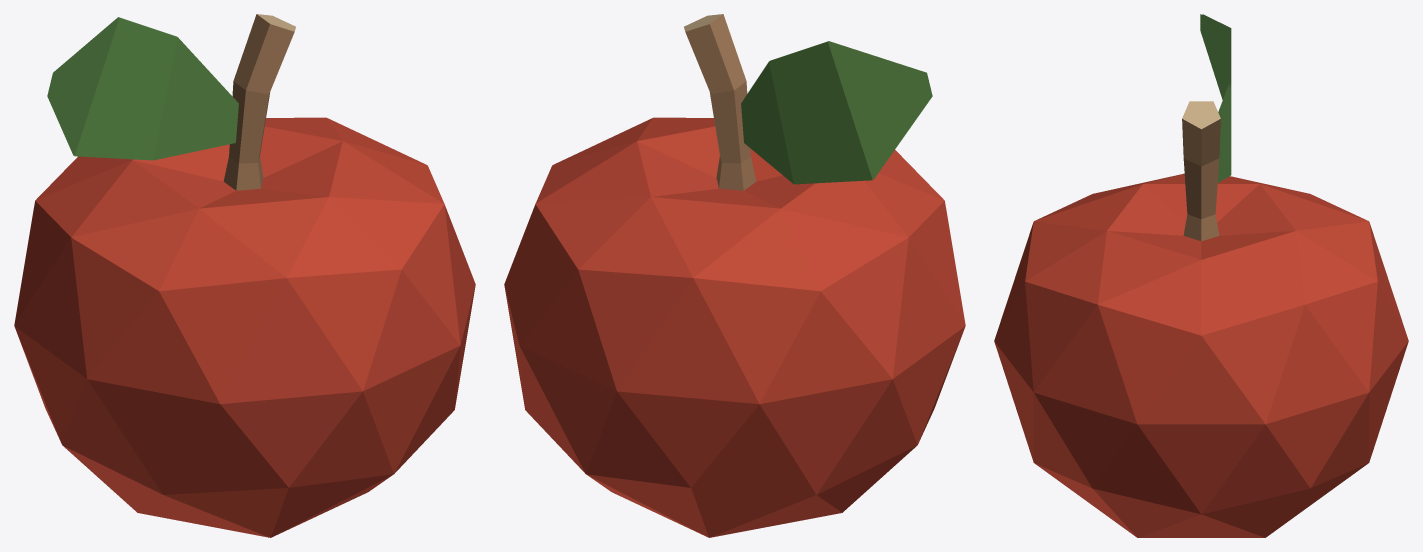
The model's file is Apple.fbx.
The picture shows the model from 3 angles, left to right: view 1: azimuth 30°, elevation 25°; view 2: azimuth 150°, elevation 25°; view 3: azimuth 270°, elevation 25°; orthographic projection. The views are drawn at different scales.
Parts seen in each view (by area): view 1: Apple; view 2: Apple; view 3: Apple.
Boxes of the visible parts, box(x1,y1,x2,y2) form: Apple: box(14, 14, 475, 537); Apple: box(504, 14, 965, 537); Apple: box(994, 14, 1408, 537).
Size of the model in its own units: 0.4024 by 0.501 by 0.42.
